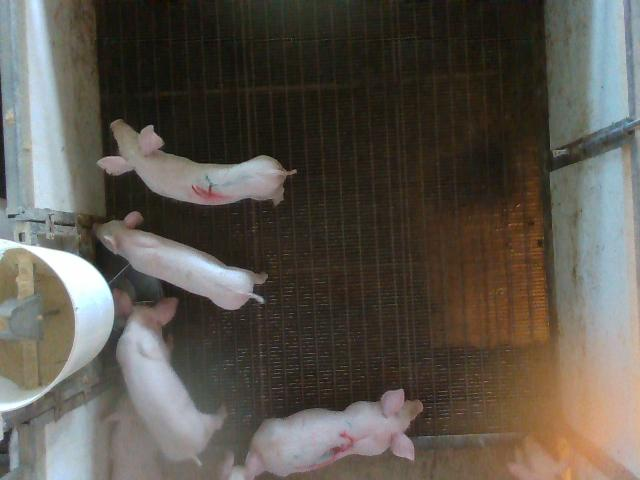pig-3: (251, 389, 422, 476)
pig-4: (98, 119, 296, 205)
